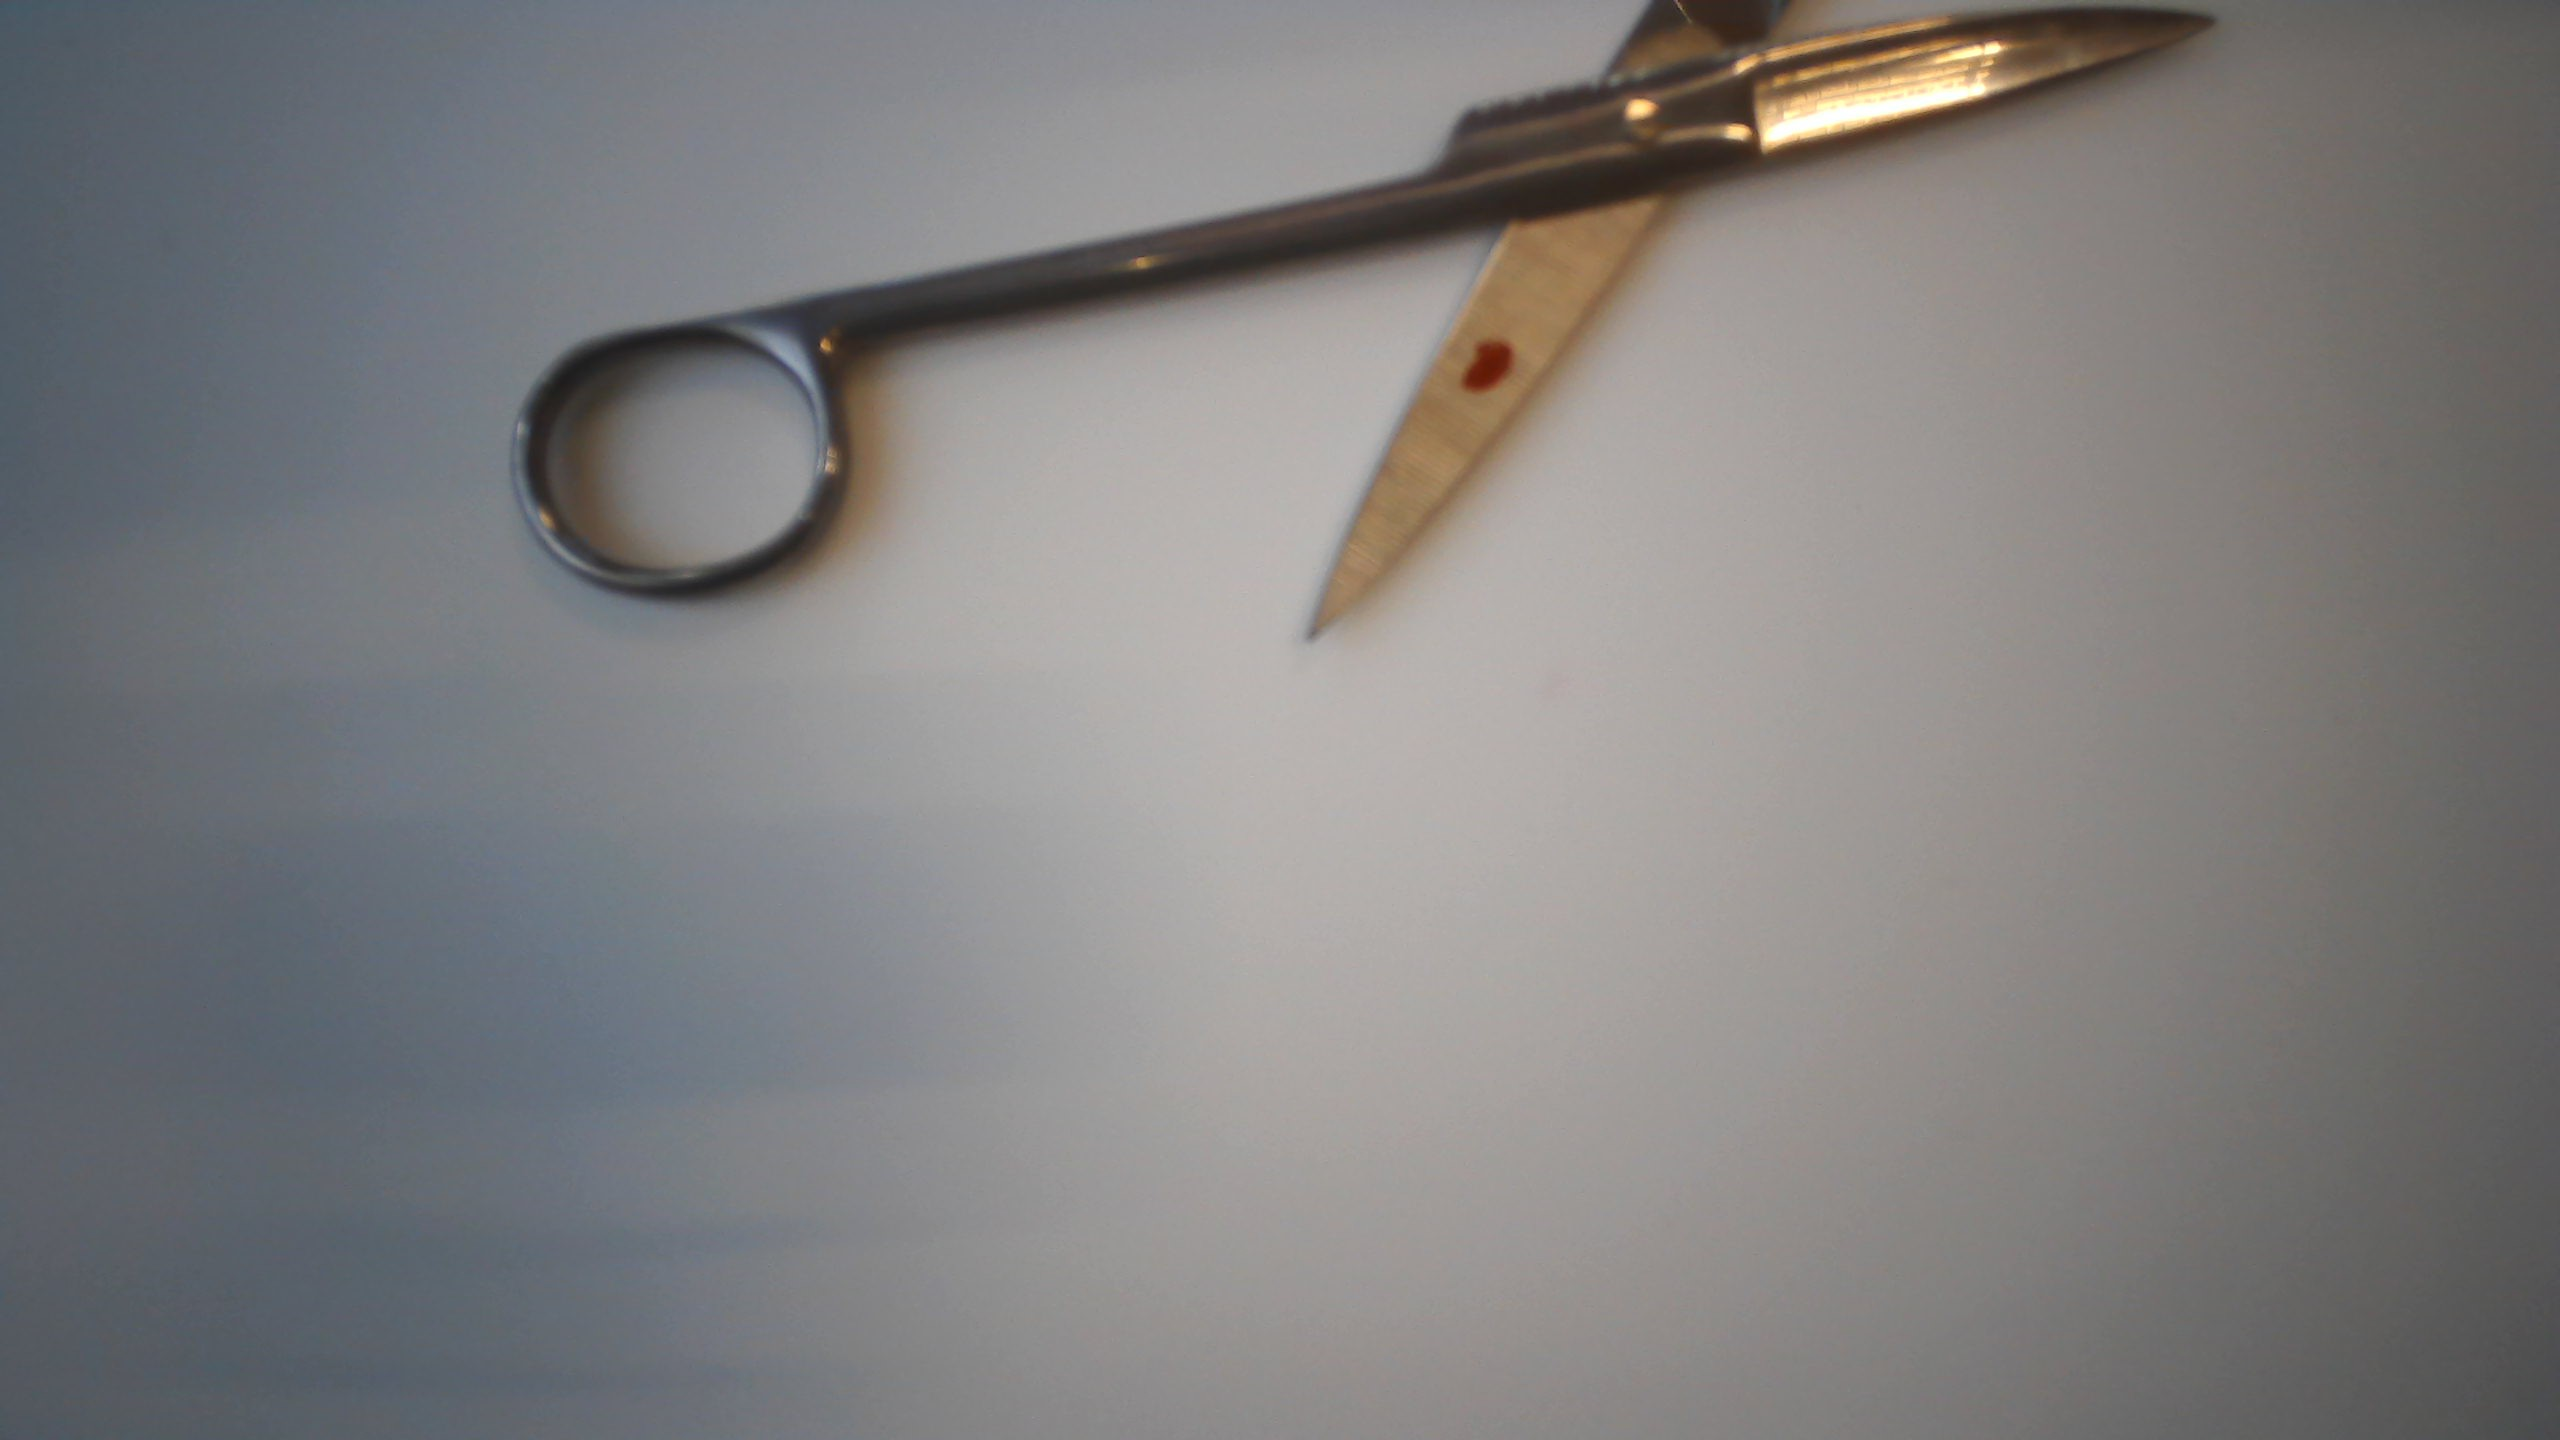Stain: (1449, 324, 1519, 401)
